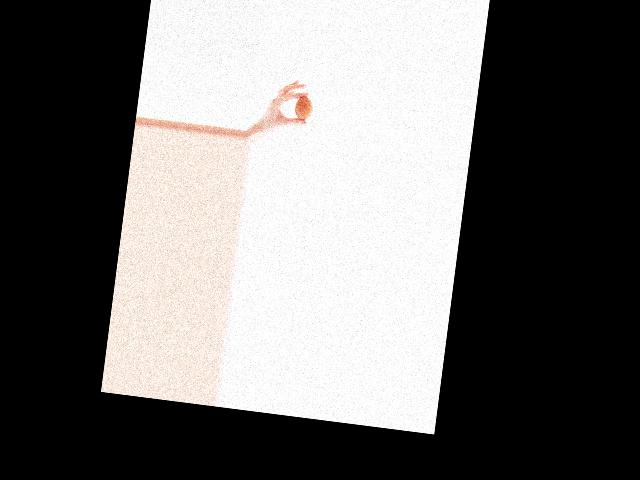egg: (294, 95, 314, 121)
